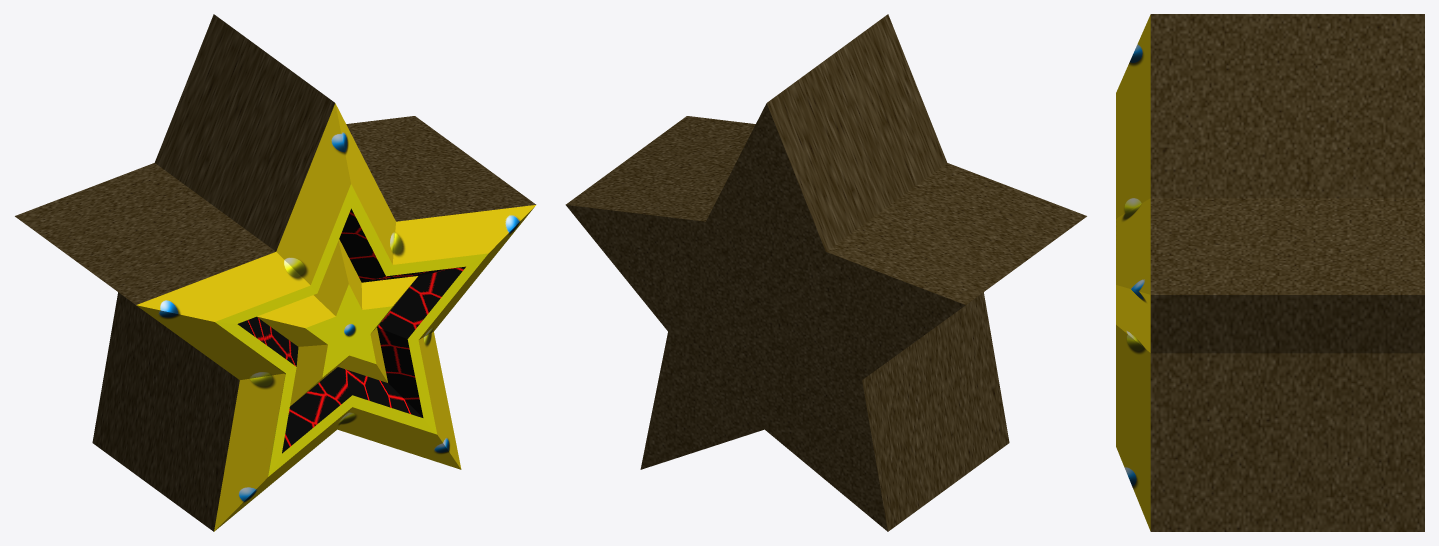
The model's file is star.FBX.
3 renders of one model, left to right at view 1: azimuth 30°, elevation 25°; view 2: azimuth 150°, elevation 25°; view 3: azimuth 270°, elevation 25°, orthographic. The views are drawn at different scales.
Parts seen in each view (by area): view 1: Star; view 2: Star; view 3: Star.
Part boxes in pixels (x1=…): Star: x1=15, y1=14, x2=536, y2=531; Star: x1=565, y1=14, x2=1086, y2=531; Star: x1=1116, y1=14, x2=1424, y2=531.
Bounding box in the file's own units: 74.88 × 71.37 × 44.35.
